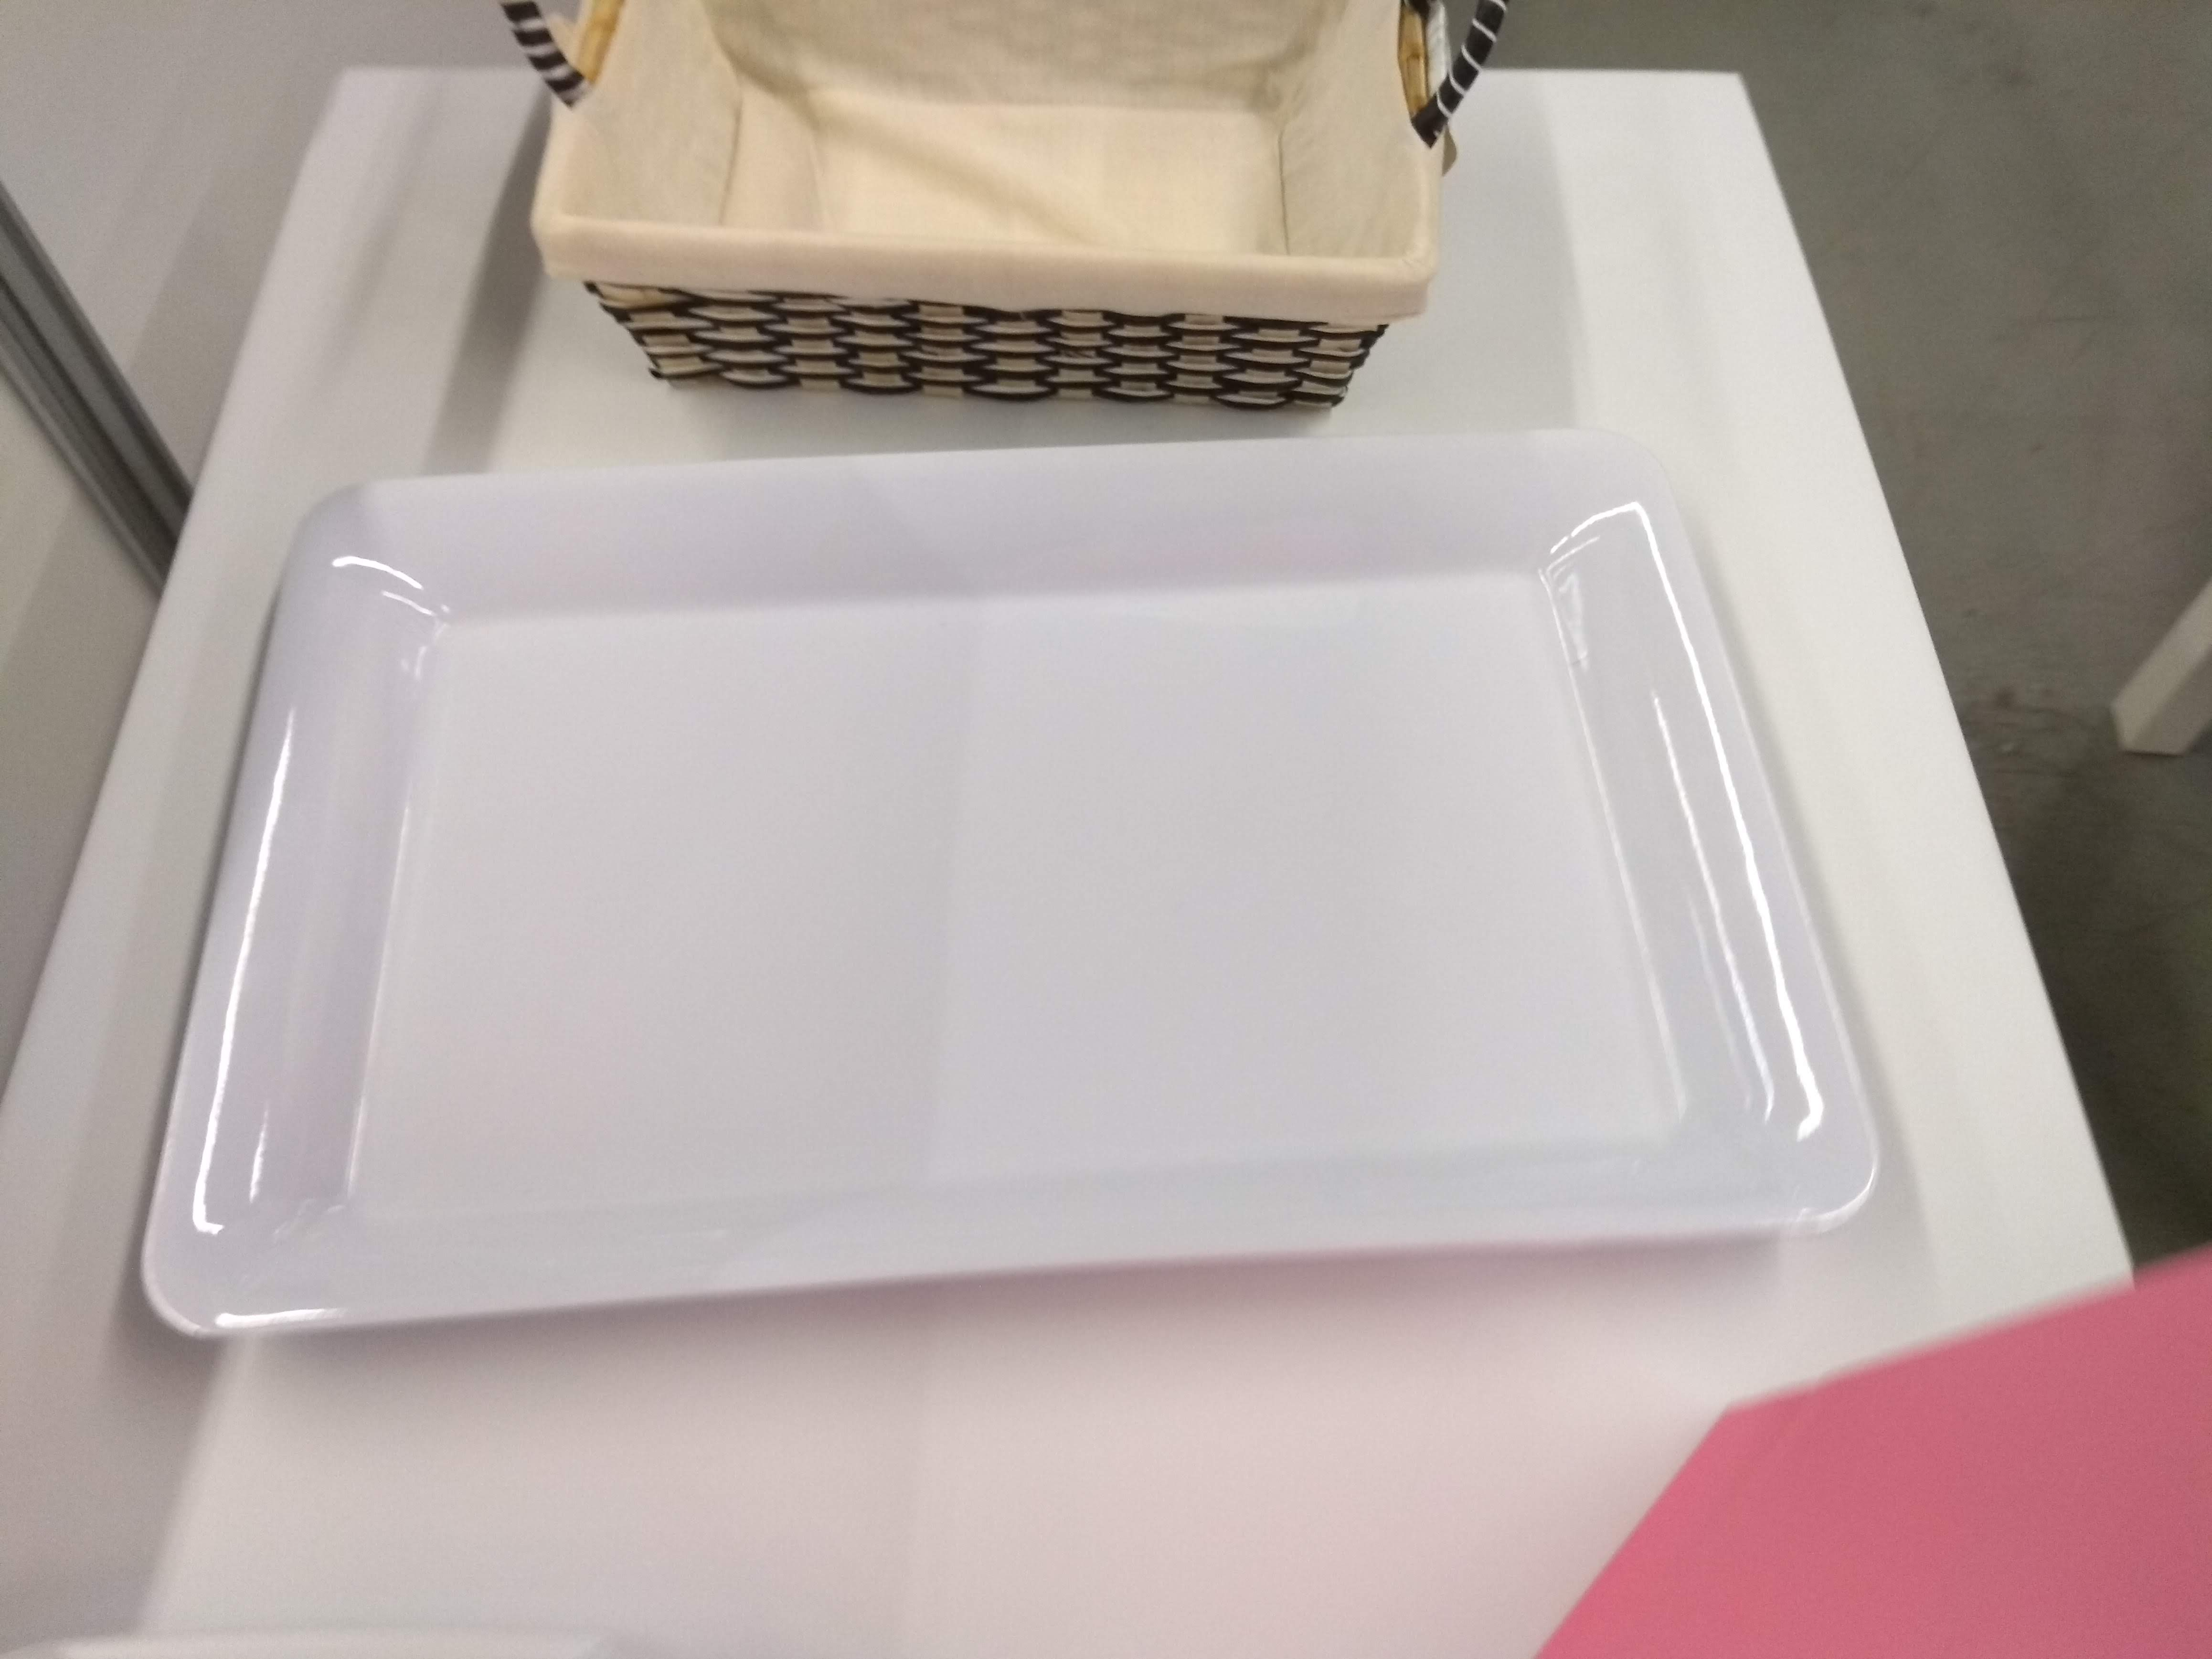basket: (517, 0, 1526, 420)
tray: (120, 430, 1885, 1371)
